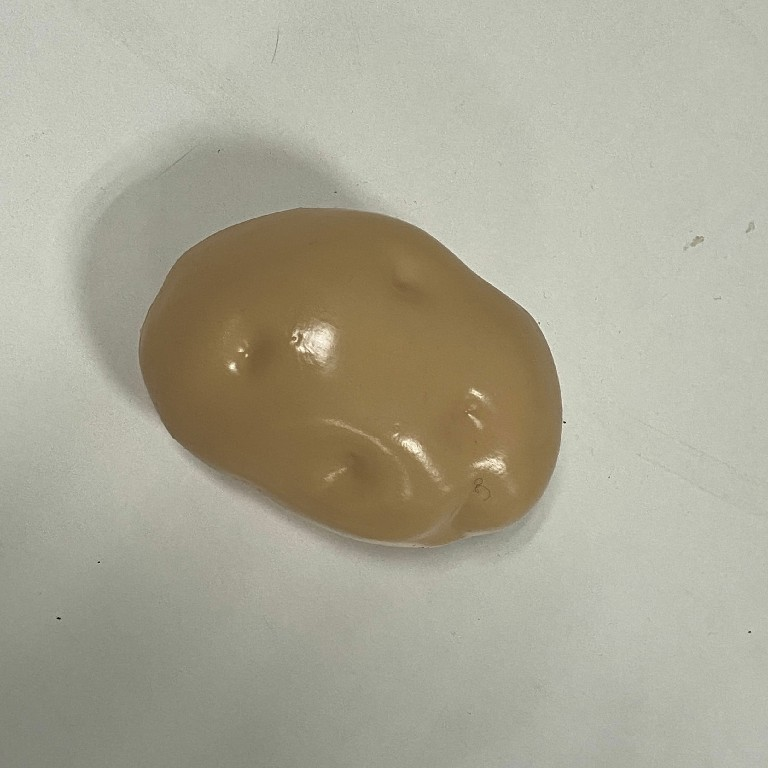fruit_potato: (129, 194, 578, 560)
